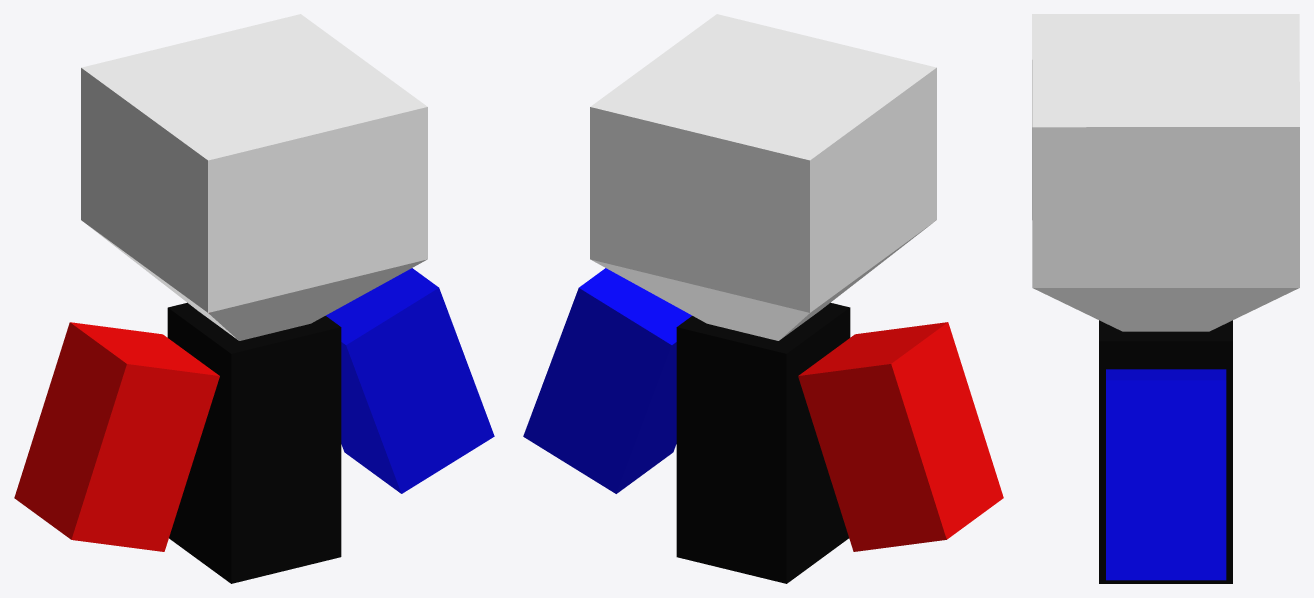
Rendered from player.obj.
The picture shows the model from 3 angles, left to right: view 1: azimuth 30°, elevation 25°; view 2: azimuth 150°, elevation 25°; view 3: azimuth 270°, elevation 25°; orthographic projection. The views are drawn at different scales.
Visible parts, largest first — view 1: Cube, 立方体, 立方体.001, 立方体.002; view 2: Cube, 立方体, 立方体.001, 立方体.002; view 3: Cube, 立方体.002, 立方体.
Part boxes in pixels (left/top/right/bottom): Cube: left=81, top=14, right=427, bottom=340; 立方体: left=167, top=302, right=341, bottom=583; 立方体.001: left=14, top=322, right=219, bottom=551; 立方体.002: left=326, top=268, right=494, bottom=493; Cube: left=590, top=14, right=936, bottom=340; 立方体: left=676, top=302, right=850, bottom=583; 立方体.001: left=798, top=322, right=1003, bottom=551; 立方体.002: left=523, top=268, right=691, bottom=493; Cube: left=1032, top=14, right=1299, bottom=331; 立方体.002: left=1106, top=369, right=1226, bottom=580; 立方体: left=1099, top=320, right=1232, bottom=583.
Size of the model in its own units: 3.85 by 4 by 2.
Materials: 1 (1 with a texture image).
